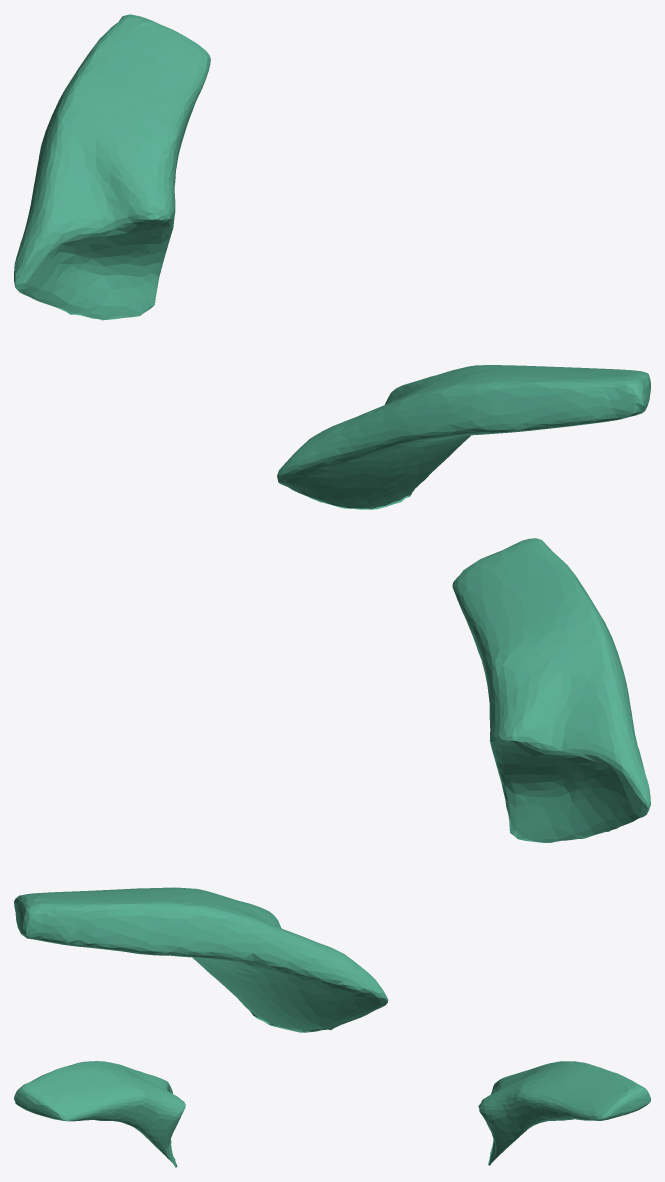
3 views of the same model, one above another, from view 1: azimuth 30°, elevation 25°; view 2: azimuth 150°, elevation 25°; view 3: azimuth 270°, elevation 25° (orthographic). The views are drawn at different scales.
Visible parts, largest first — view 1: 119.obj; view 2: 119.obj; view 3: 119.obj.
Boxes of the visible parts, x1,y1,x2,y2 form: 119.obj: (14,14,650,509); 119.obj: (14,538,650,1032); 119.obj: (14,1061,650,1167).
Bounding box in the file's own units: 2468 × 1547 × 7842.
